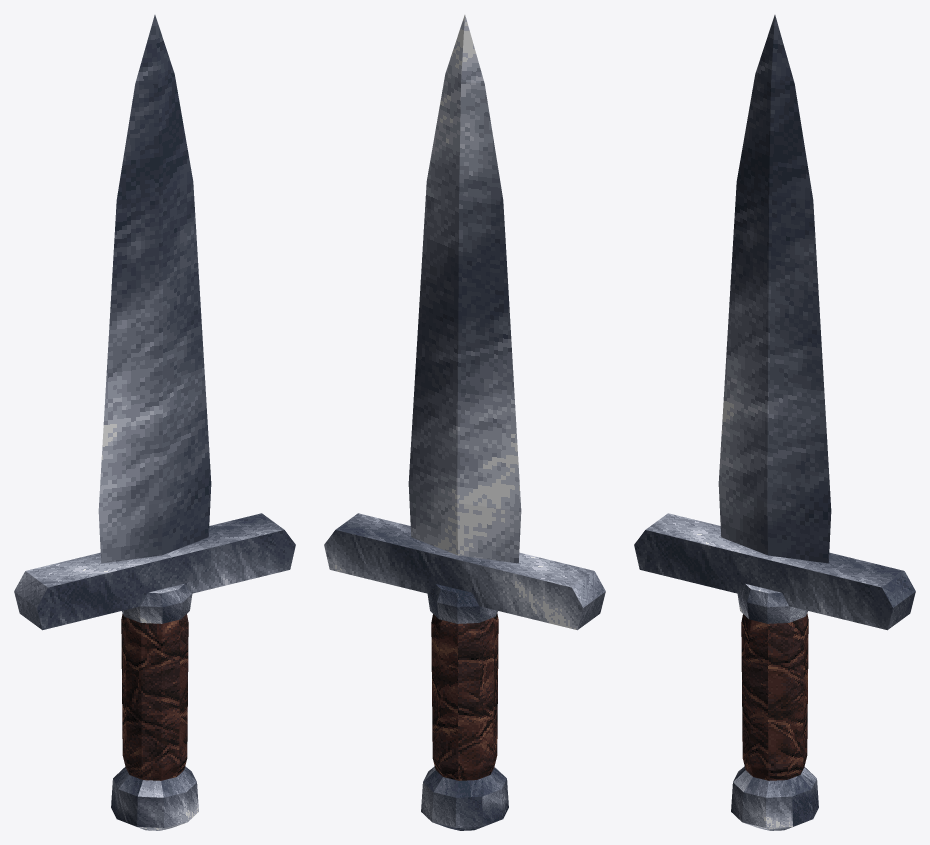
File: adaga.glb
The picture shows the model from 3 angles, left to right: view 1: azimuth 30°, elevation 25°; view 2: azimuth 150°, elevation 25°; view 3: azimuth 330°, elevation 25°; orthographic projection.
Visible parts, largest first — view 1: Lâmina da adaga, Guarda simples, Cabo de couro, Pomo, Anel do cabo; view 2: Lâmina da adaga, Guarda simples, Cabo de couro, Pomo, Anel do cabo; view 3: Lâmina da adaga, Guarda simples, Cabo de couro, Pomo, Anel do cabo.
Boxes of the visible parts, x1=… form: Lâmina da adaga: x1=98, y1=15, x2=211, y2=563; Guarda simples: x1=14, y1=513, x2=295, y2=630; Cabo de couro: x1=121, y1=613, x2=188, y2=780; Pomo: x1=111, y1=766, x2=198, y2=830; Anel do cabo: x1=122, y1=583, x2=192, y2=623; Lâmina da adaga: x1=408, y1=15, x2=521, y2=563; Guarda simples: x1=324, y1=513, x2=605, y2=630; Cabo de couro: x1=431, y1=613, x2=498, y2=780; Pomo: x1=421, y1=766, x2=508, y2=830; Anel do cabo: x1=427, y1=583, x2=497, y2=623; Lâmina da adaga: x1=718, y1=15, x2=831, y2=563; Guarda simples: x1=634, y1=513, x2=915, y2=630; Cabo de couro: x1=741, y1=613, x2=808, y2=780; Pomo: x1=731, y1=766, x2=818, y2=830; Anel do cabo: x1=737, y1=583, x2=807, y2=623.
Bounding box in the file's own units: 0.46 × 1.37 × 0.1293.
Materials: 2 (2 with a texture image).
